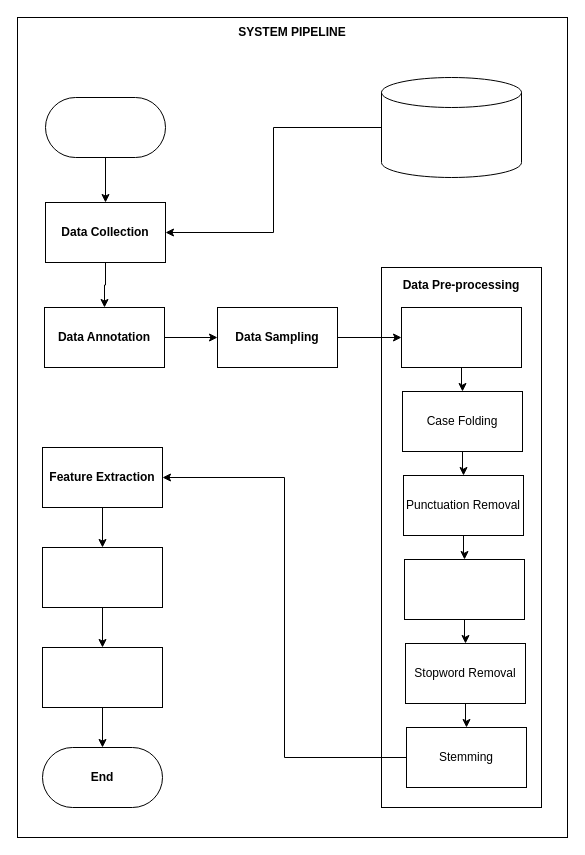
The diagram is 585 pixels wide and 855 high, and some of its shapes have lost their labels. The shapes that lost their labels are listed below. From the top down, each one's centre as x and y in pixels, then its label:
At point (105, 127): "Start".
At point (451, 127): "Kaggle : Ruangguru's Clash of Champion 2024 Youtube Comments".
At point (461, 337): "URL s Removal".
At point (102, 577): "Model Training & Evaluation".
At point (464, 589): "Tokenization".
At point (102, 677): "Testing".
